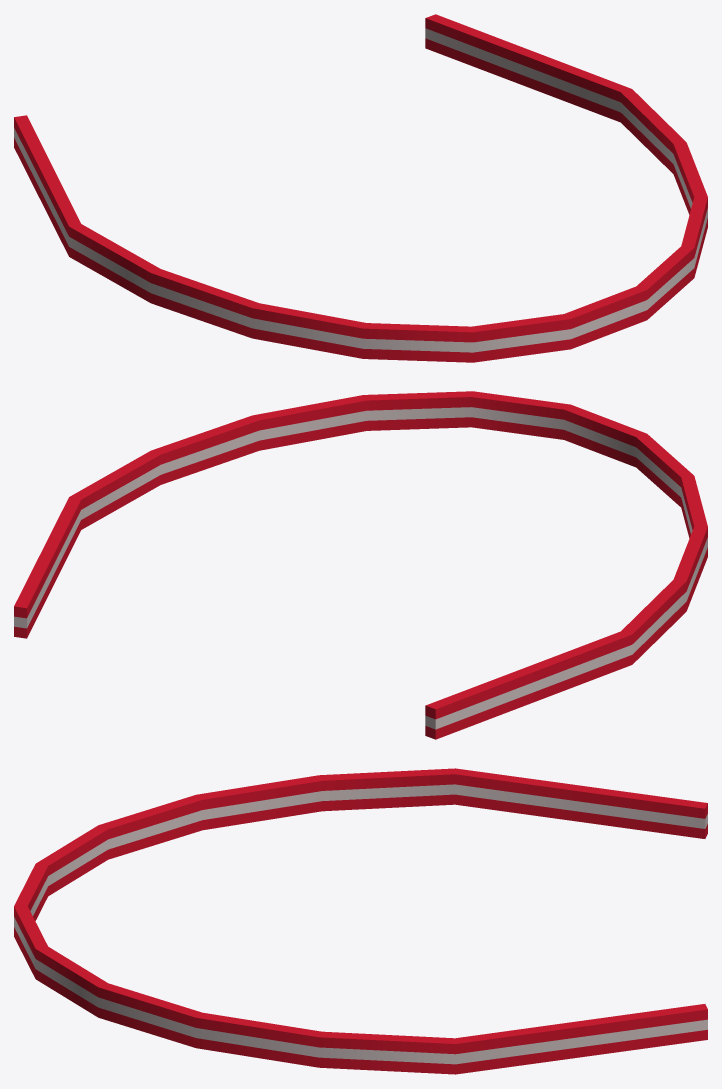
The model's file is Golf Barrier.fbx.
3 views of the same model, one above another, from view 1: azimuth 30°, elevation 25°; view 2: azimuth 150°, elevation 25°; view 3: azimuth 270°, elevation 25° (orthographic).
Visible parts, largest first — view 1: Golf Barrier; view 2: Golf Barrier; view 3: Golf Barrier.
Boxes of the visible parts, left/top/right/bottom form: Golf Barrier: left=14, top=14, right=707, bottom=362; Golf Barrier: left=14, top=391, right=707, bottom=739; Golf Barrier: left=14, top=768, right=707, bottom=1074.
Bounding box in the file's own units: 5.8 × 0.2991 × 6.18.
